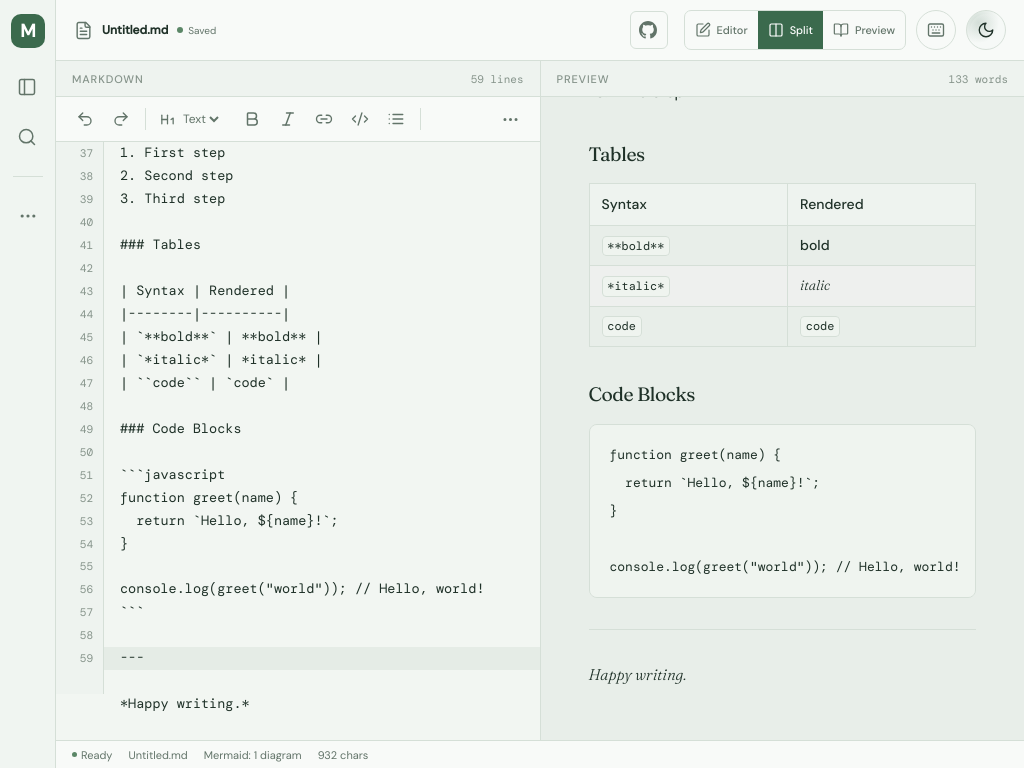
Test: MarkdownStudioView › formats selected source text and updates the Live Preview
The image size is (1024, 768).
(page scrolled)
Step 1. Replace the text in the text box with "make strong" → [298, 441], box [56,142,540,740]
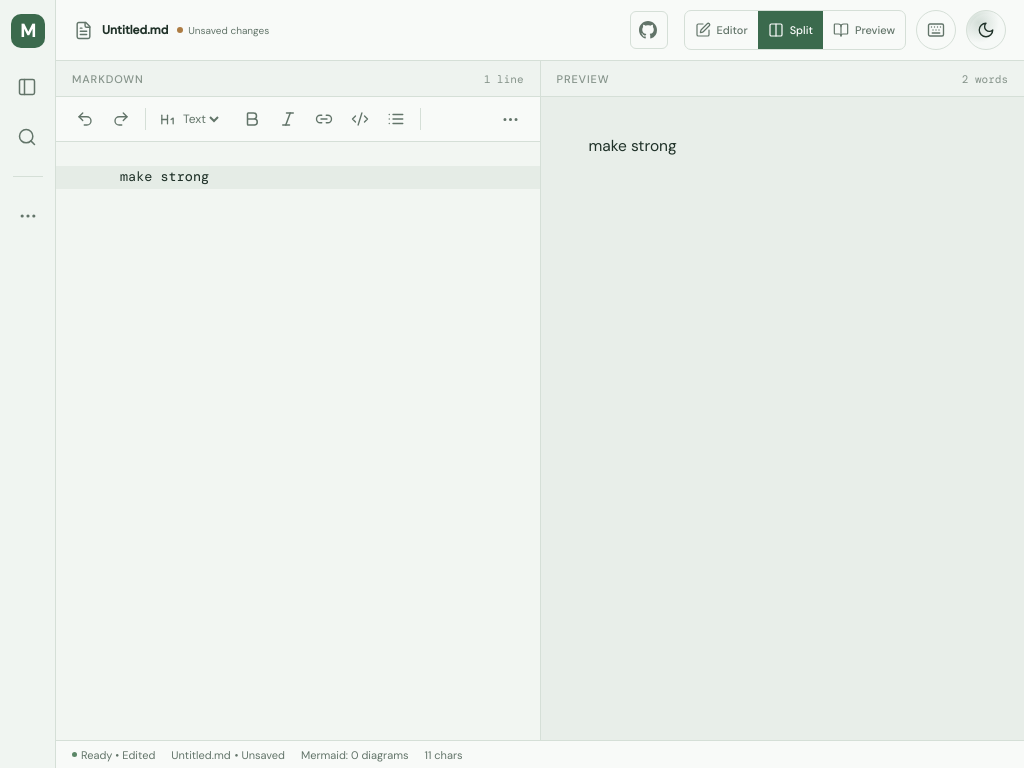
Step 2. Click the button named "Bold" → [252, 119], box [235,102,269,136]
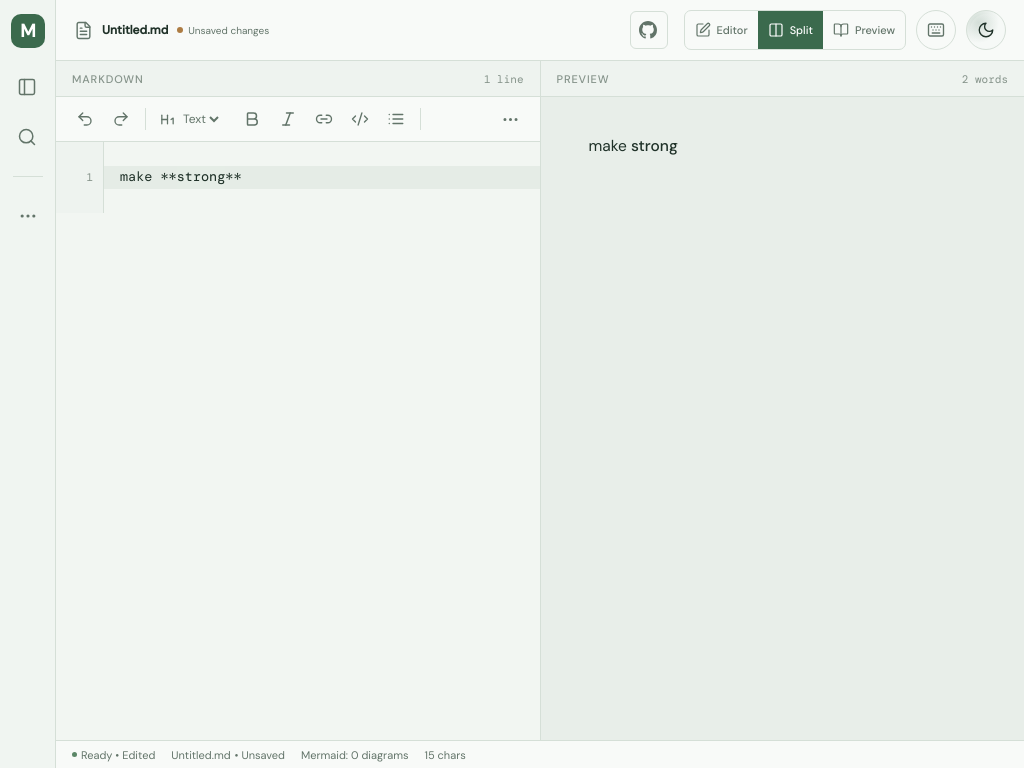
Result: the text "strong" is shown at [631,136,678,156]
Result: the list with class "editor-line-numbers" reads "1" at [86,170,93,184]
Result: the text box holds "make **strong**" at [56,142,540,740]
